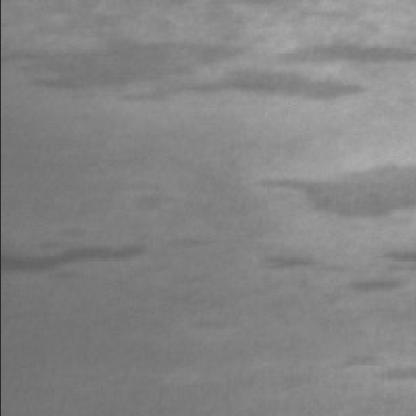inclusion: (4, 10, 410, 100), (248, 154, 412, 216), (0, 224, 150, 280), (330, 239, 410, 293), (330, 345, 410, 389), (252, 241, 350, 275)
